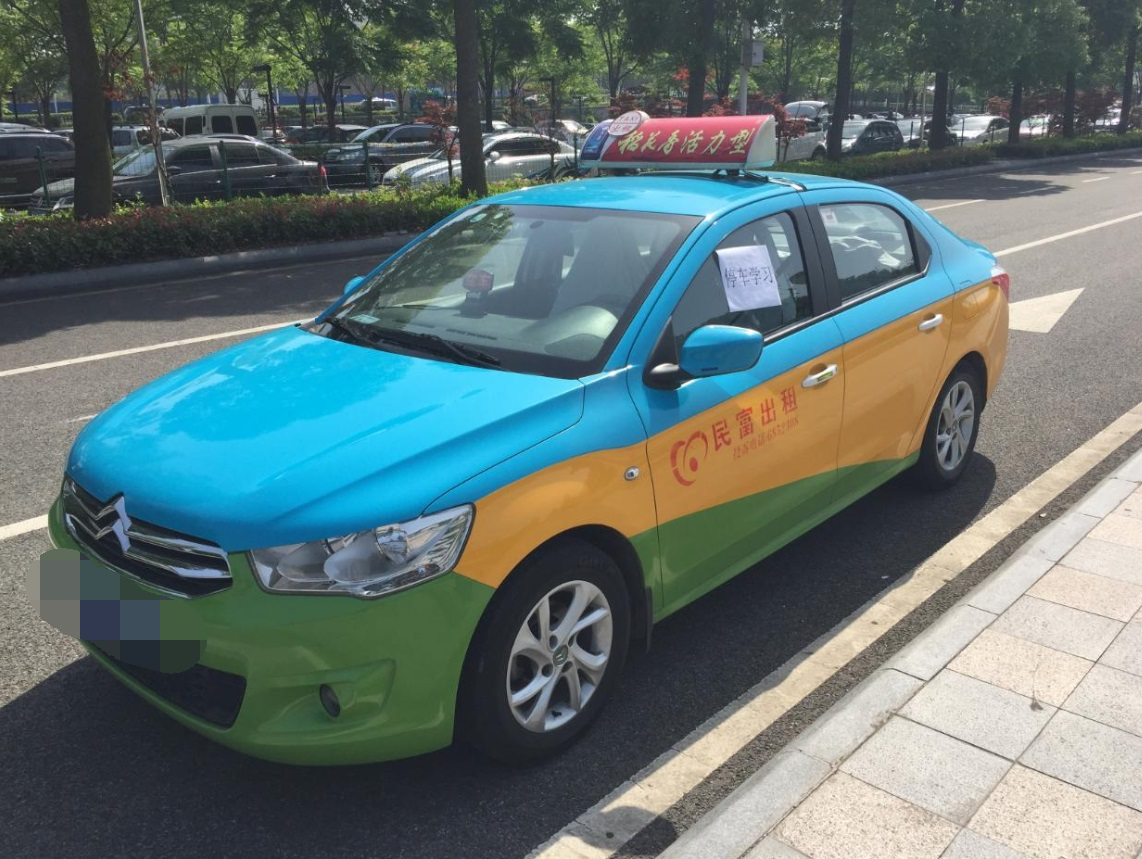taxi: (43, 107, 1013, 795)
